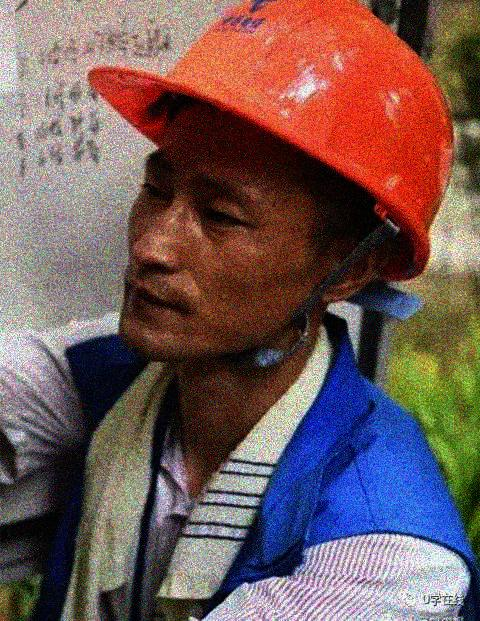helmet: (79, 2, 465, 364)
